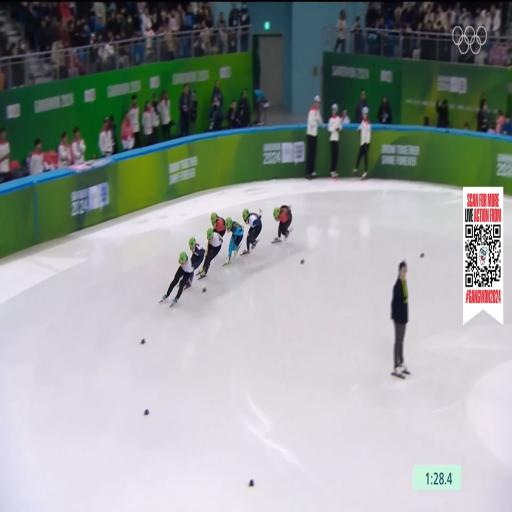Skater: (162, 252, 193, 306), (199, 229, 222, 279), (223, 218, 243, 265), (243, 209, 261, 254), (273, 206, 291, 243), (189, 238, 205, 271), (211, 213, 226, 237)
